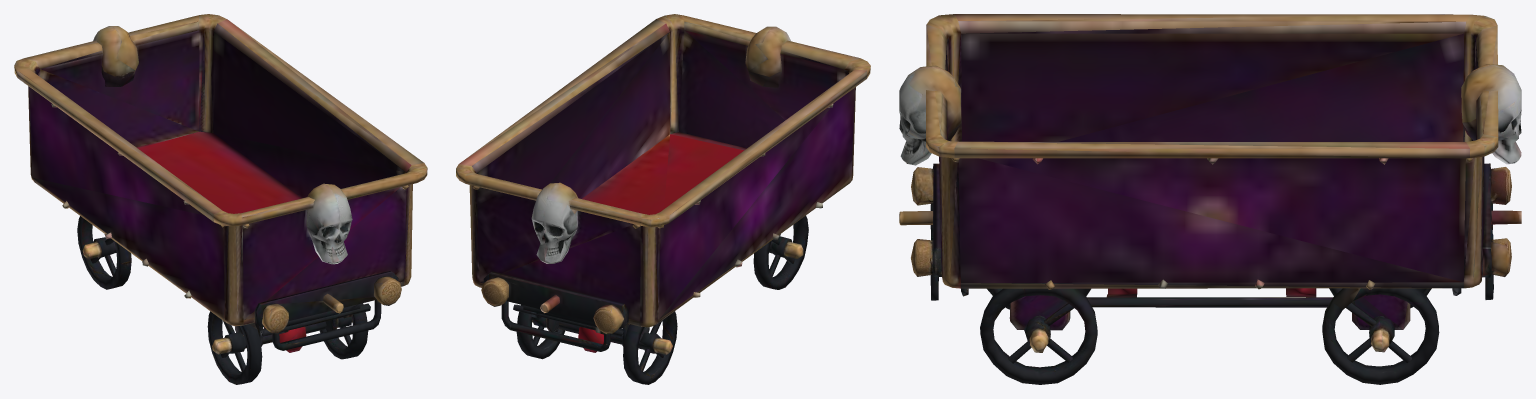
File: ghost-cart.glb
3 renders of one model, left to right at view 1: azimuth 30°, elevation 25°; view 2: azimuth 150°, elevation 25°; view 3: azimuth 270°, elevation 25°, orthographic. The views are drawn at different scales.
Bounding box in the file's own units: 0.5118 × 0.5009 × 1.
1 material, 1 textured.
